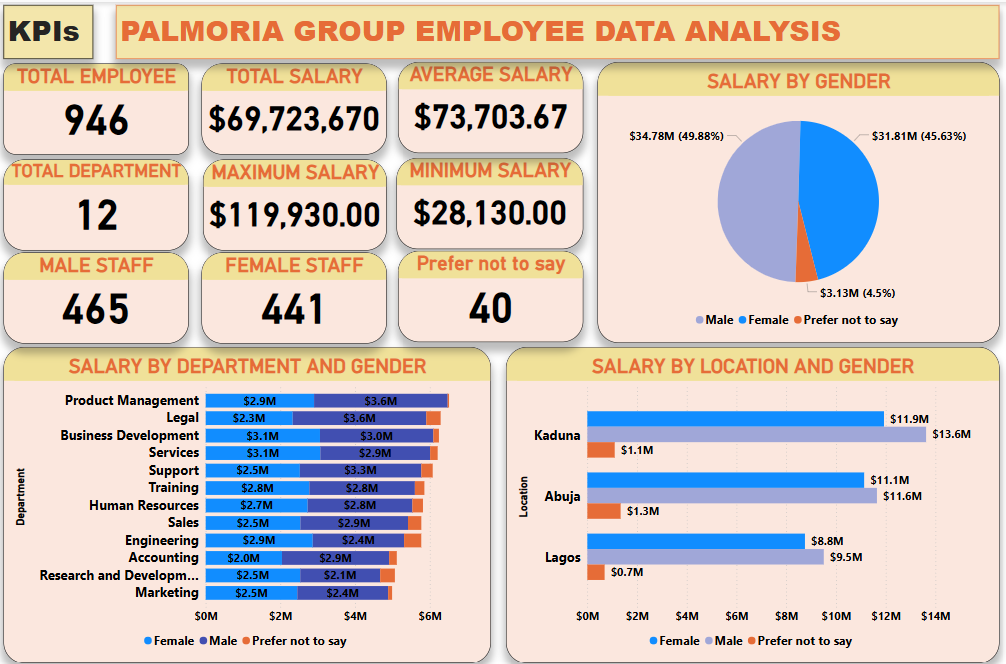

The dashboard page shown, as its layout file describes it:
{"tool":"powerbi","page":{"name":"Page 1","canvas":[1350,883],"ordinal":0},"visuals":[{"type":"card","title":"TOTAL SALARY","fields":{"Values":["Palmoria Group Employee Data.Salary"]},"box":[271.1,81.1,245.4,120.7],"z":0},{"type":"card","title":"MAXIMUM SALARY","fields":{"Values":["Palmoria Group Employee Data.Salary"]},"box":[273.1,207.8,243.4,120.7],"z":1000},{"type":"card","title":"MINIMUM SALARY","fields":{"Values":["Palmoria Group Employee Data.Salary"]},"box":[530.4,205.8,247.4,120.7],"z":2000},{"type":"card","title":"AVERAGE SALARY","fields":{"Values":["Palmoria Group Employee Data.Salary"]},"box":[532.4,79.2,245.4,120.7],"z":3000},{"type":"pieChart","title":"SALARY BY GENDER","fields":{"Category":["Palmoria Group Employee Data.Gender"],"Y":["Palmoria Group Employee Data.Salary"]},"box":[795.6,79.2,532.4,372.1],"z":4000},{"type":"clusteredBarChart","title":"SALARY BY LOCATION AND GENDER","fields":{"Category":["Palmoria Group Employee Data.Location"],"Y":["Palmoria Group Employee Data.Salary"],"Series":["Palmoria Group Employee Data.Gender"]},"box":[674.9,457.2,653.1,419.6],"z":5000},{"type":"card","title":"TOTAL EMPLOYEE","fields":{"Values":["Palmoria Group Employee Data.Name"]},"box":[9.9,81.1,245.4,120.7],"z":6000},{"type":"barChart","title":"SALARY BY DEPARTMENT AND GENDER","fields":{"Category":["Palmoria Group Employee Data.Department"],"Y":["Palmoria Group Employee Data.Salary"],"Series":["Palmoria Group Employee Data.Gender"]},"box":[9.9,457.2,645.2,419.6],"z":7000},{"type":"card","title":"TOTAL DEPARTMENT","fields":{"Values":["Palmoria Group Employee Data.Department"]},"box":[9.9,207.8,245.4,120.7],"z":8000},{"type":"card","title":"FEMALE STAFF","fields":{"Values":["Bonus Rules.FemaleCount"]},"box":[271.1,332.5,245.4,120.7],"z":9000},{"type":"card","title":"MALE STAFF","fields":{"Values":["Bonus Rules.Male Count"]},"box":[9.9,332.5,245.4,120.7],"z":10000},{"type":"card","title":"Prefer not to say","fields":{"Values":["Palmoria Group Employee Data.Prefe not to say"]},"box":[532.4,330.5,245.4,120.7],"z":11000},{"type":"textbox","box":[9.9,4,118.7,71.2],"z":12000},{"type":"textbox","box":[158.3,4,1169.6,71.2],"z":13000}]}

Visuals, with their boxes in screenshot pixels (x1, y1, x2, y2), scaled from the page's 1350x883 canvas onto the 1006x664 screenshot:
"TOTAL SALARY" card: (left=202, top=61, right=385, bottom=152)
"MAXIMUM SALARY" card: (left=204, top=156, right=385, bottom=247)
"MINIMUM SALARY" card: (left=395, top=155, right=580, bottom=246)
"AVERAGE SALARY" card: (left=397, top=60, right=580, bottom=150)
"SALARY BY GENDER" pieChart: (left=593, top=60, right=990, bottom=339)
"SALARY BY LOCATION AND GENDER" clusteredBarChart: (left=503, top=344, right=990, bottom=659)
"TOTAL EMPLOYEE" card: (left=7, top=61, right=190, bottom=152)
"SALARY BY DEPARTMENT AND GENDER" barChart: (left=7, top=344, right=488, bottom=659)
"TOTAL DEPARTMENT" card: (left=7, top=156, right=190, bottom=247)
"FEMALE STAFF" card: (left=202, top=250, right=385, bottom=341)
"MALE STAFF" card: (left=7, top=250, right=190, bottom=341)
"Prefer not to say" card: (left=397, top=249, right=580, bottom=339)
textbox: (left=7, top=3, right=96, bottom=57)
textbox: (left=118, top=3, right=990, bottom=57)
